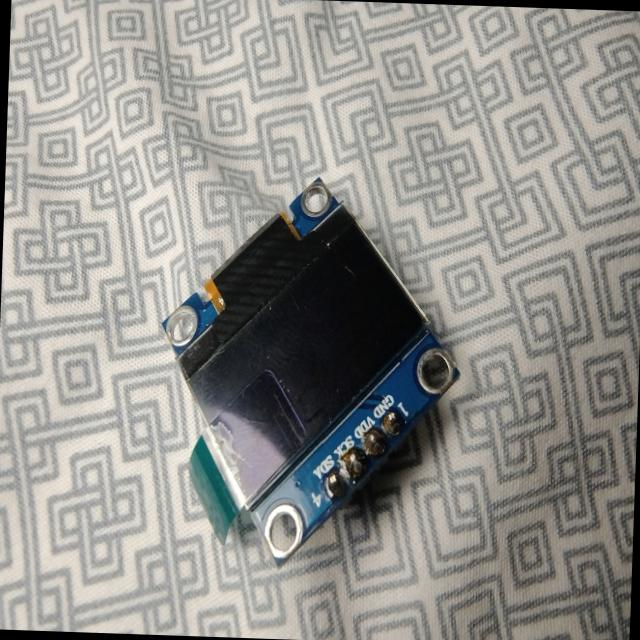oled: (142, 158, 476, 592)
